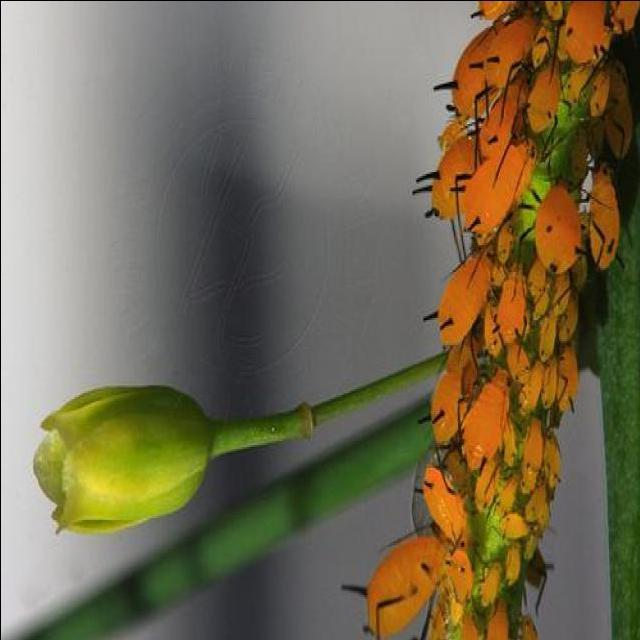aphid: (345, 512, 454, 630), (452, 364, 530, 475), (514, 162, 590, 274), (459, 120, 532, 236), (429, 248, 499, 342), (430, 134, 476, 223), (596, 61, 634, 160), (560, 2, 610, 64), (430, 358, 465, 445), (524, 56, 562, 132), (559, 55, 595, 113), (568, 119, 594, 185), (556, 346, 578, 406), (538, 305, 560, 357), (500, 512, 528, 540)
